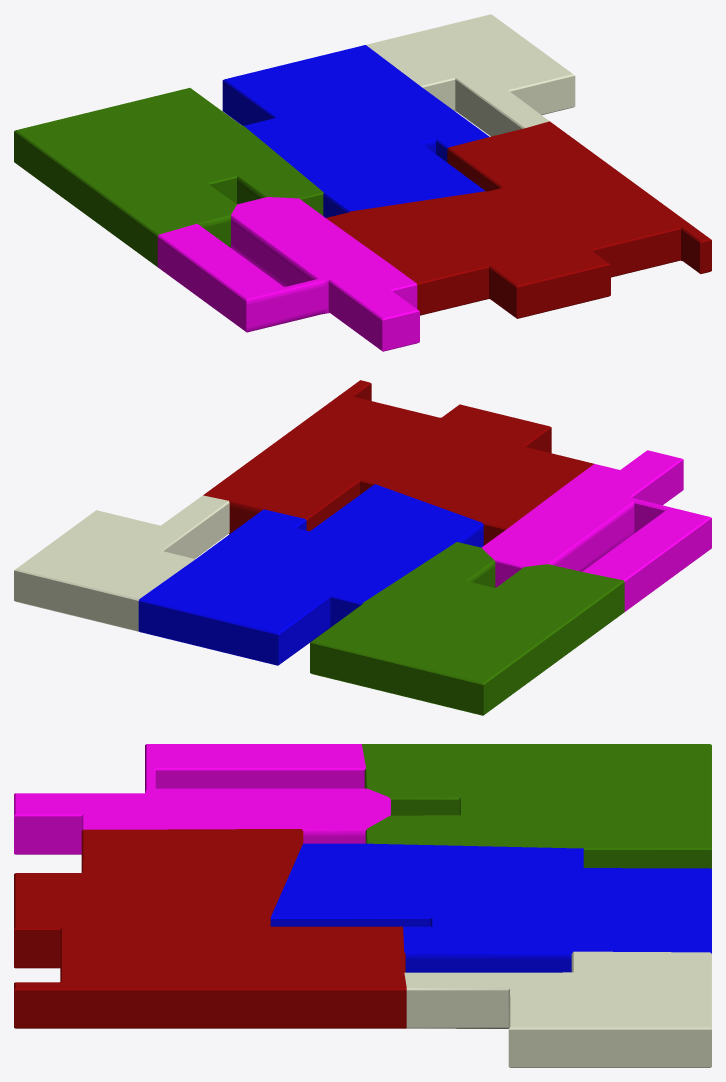
The model's file is prop_level_6.FBX.
3 renders of one model, top to bottom at view 1: azimuth 30°, elevation 25°; view 2: azimuth 150°, elevation 25°; view 3: azimuth 270°, elevation 25°, orthographic. The views are drawn at different scales.
Visible parts, largest first — view 1: Plane001; view 2: Plane001; view 3: Plane001.
Boxes of the visible parts, x1=… form: Plane001: x1=14, y1=14, x2=711, y2=351; Plane001: x1=14, y1=380, x2=711, y2=715; Plane001: x1=14, y1=744, x2=711, y2=1067.
Bounding box in the file's own units: 1469 × 98.04 × 1523.
